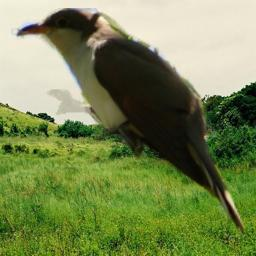Cuckoo: (11, 8, 244, 240)
